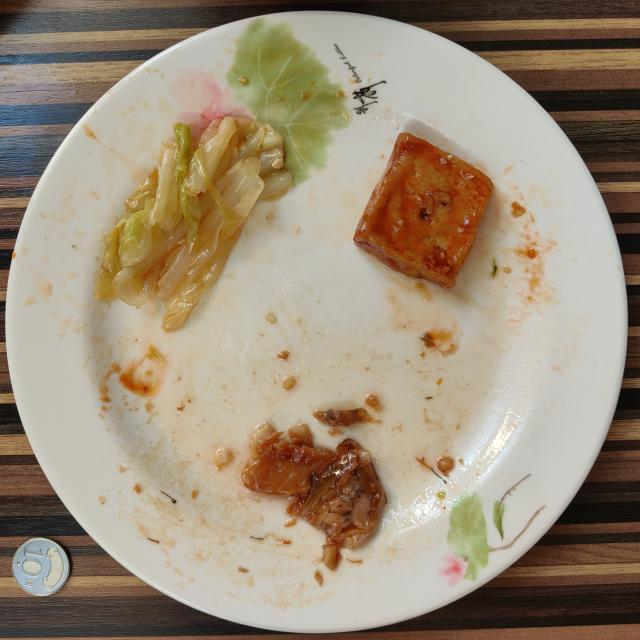Kabayaki sea bream fillet: (241, 422, 386, 569)
cabbage: (96, 116, 291, 330)
coin: (12, 538, 70, 596)
creamy tofu: (355, 132, 492, 288)
